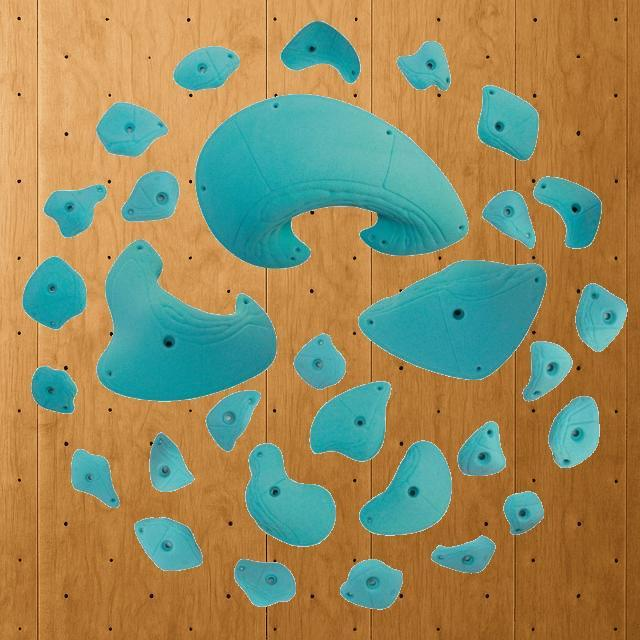Jug: (194, 92, 468, 268), (96, 238, 276, 402), (357, 259, 547, 381), (244, 442, 336, 546), (360, 441, 450, 534), (310, 383, 390, 461), (280, 19, 360, 83), (533, 176, 601, 248), (477, 84, 539, 160), (23, 258, 87, 330), (94, 101, 168, 157), (134, 517, 202, 571), (575, 282, 627, 352), (205, 390, 261, 452), (550, 397, 598, 467), (44, 183, 106, 237), (292, 332, 348, 390), (482, 190, 536, 250), (341, 558, 403, 608), (523, 342, 573, 402), (70, 448, 120, 508), (172, 46, 240, 90), (396, 39, 452, 91), (234, 560, 296, 606), (122, 172, 178, 222), (150, 434, 194, 492), (458, 422, 504, 474), (432, 536, 494, 572), (32, 366, 76, 414), (503, 492, 542, 534)
